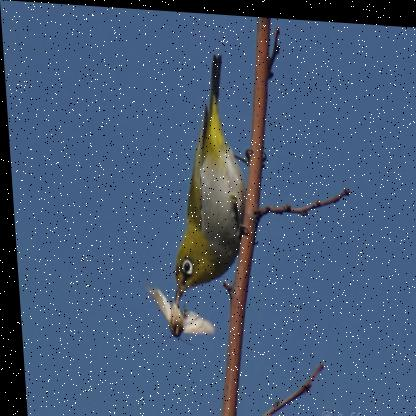Burung: (157, 46, 249, 309)
